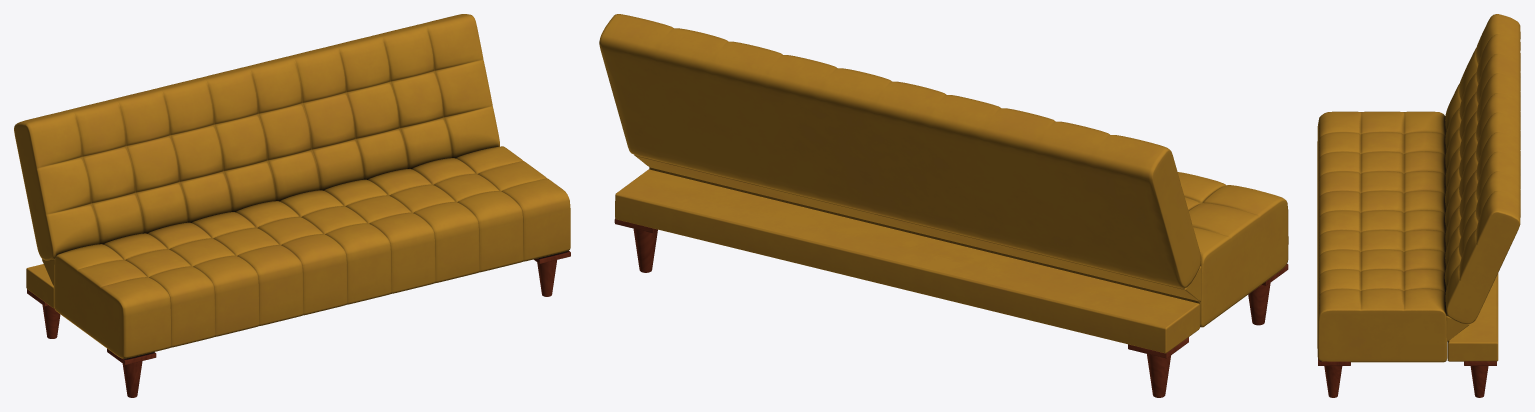
File: sofa_2 (1).glb
3 renders of one model, left to right at view 1: azimuth 30°, elevation 25°; view 2: azimuth 150°, elevation 25°; view 3: azimuth 270°, elevation 25°, orthographic. The views are drawn at different scales.
Visible parts, largest first — view 1: Object_2, Object_3; view 2: Object_2, Object_3; view 3: Object_3, Object_2.
Part boxes in pixels (x1,y1,x2,y2): Object_2: (14, 14, 499, 308); Object_3: (27, 146, 570, 397); Object_2: (599, 14, 1200, 353); Object_3: (614, 155, 1288, 397); Object_3: (1317, 111, 1496, 397); Object_2: (1444, 14, 1520, 361).
Size of the model in its own units: 183 by 82.66 by 79.36.
1 material, 1 textured.
